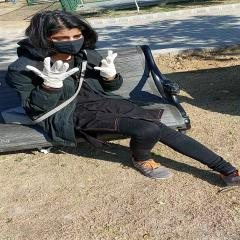gloved: (28, 57, 79, 88), (94, 50, 117, 78)
